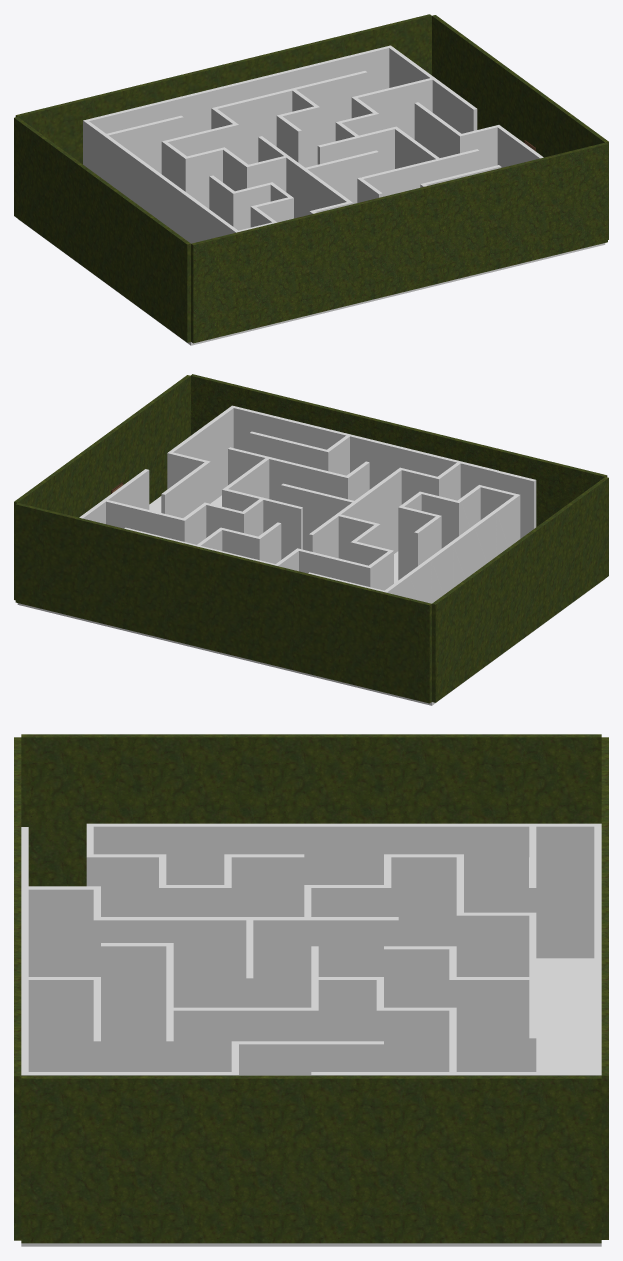
The model's file is MazeRoom.fbx.
The picture shows the model from 3 angles, top to bottom: view 1: azimuth 30°, elevation 25°; view 2: azimuth 150°, elevation 25°; view 3: azimuth 270°, elevation 25°; orthographic projection. The views are drawn at different scales.
Parts seen in each view (by area): view 1: wall, wall.001, wall.002, wall.003, Cube.060, Cube.058, Cube.007, Cube.075, Cube.061, Cube.070, Cube.056, Cube.036 (+44 smaller); view 2: wall.002, wall.001, wall, wall.003, floor, Cube.038, Cube.034, Cube.041, Cube.023, Cube.045, Cube.029, Cube.021 (+47 smaller); view 3: wall.003, wall.001, floor, Cube.026, Cube.062, Cube.057, Cube.035, Cube.018, Cube.054, Cube.030, Cube.039, Cube.074 (+23 smaller).
Boxes of the visible parts, box(x1,y1,x2,y2) form: wall: box(191, 142, 607, 343); wall.001: box(14, 117, 190, 342); wall.002: box(15, 14, 431, 164); wall.003: box(432, 15, 608, 239); Cube.060: box(253, 89, 292, 162); Cube.058: box(328, 71, 367, 142); Cube.007: box(393, 78, 432, 139); Cube.075: box(187, 147, 226, 208); Cube.061: box(215, 98, 254, 164); Cube.070: box(350, 46, 389, 93); Cube.056: box(280, 105, 319, 167); Cube.036: box(339, 150, 378, 203); wall.002: box(15, 503, 431, 703); wall.001: box(432, 477, 608, 702); wall: box(191, 374, 607, 526); wall.003: box(14, 375, 190, 600); floor: box(17, 495, 604, 705); Cube.038: box(263, 498, 302, 559); Cube.034: box(377, 469, 401, 553); Cube.041: box(496, 470, 536, 538); Cube.023: box(211, 405, 235, 500); Cube.045: box(421, 492, 461, 548); Cube.029: box(346, 434, 385, 489); Cube.021: box(233, 406, 272, 451); wall.003: box(21, 1075, 601, 1243); wall.001: box(21, 734, 601, 886); floor: box(21, 958, 601, 1246); Cube.026: box(101, 943, 173, 1071); Cube.062: box(529, 823, 601, 958); Cube.057: box(456, 977, 529, 1071); Cube.035: box(173, 917, 246, 1007); Cube.018: box(28, 977, 100, 1071); Cube.054: box(456, 823, 529, 912); Cube.030: box(28, 886, 100, 976); Cube.039: box(253, 917, 325, 1007); Cube.074: box(384, 854, 456, 946).
Bounding box in the file's own units: 7865 × 1820 × 5740.
9 materials, 6 textured.
